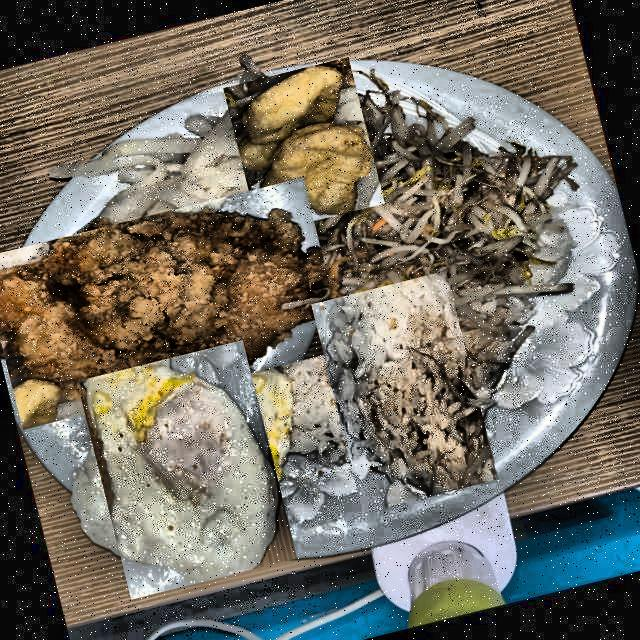Food: (0, 176, 346, 430), (66, 348, 307, 590), (296, 284, 512, 498), (342, 114, 550, 323), (224, 56, 386, 235)
